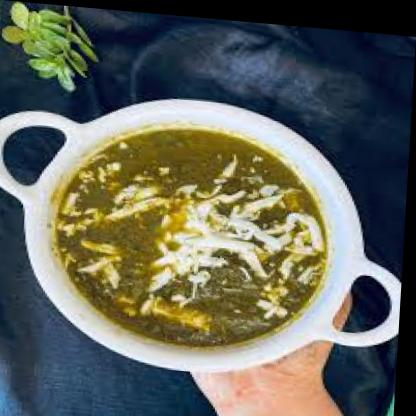palak_paneer: (54, 117, 337, 352)
